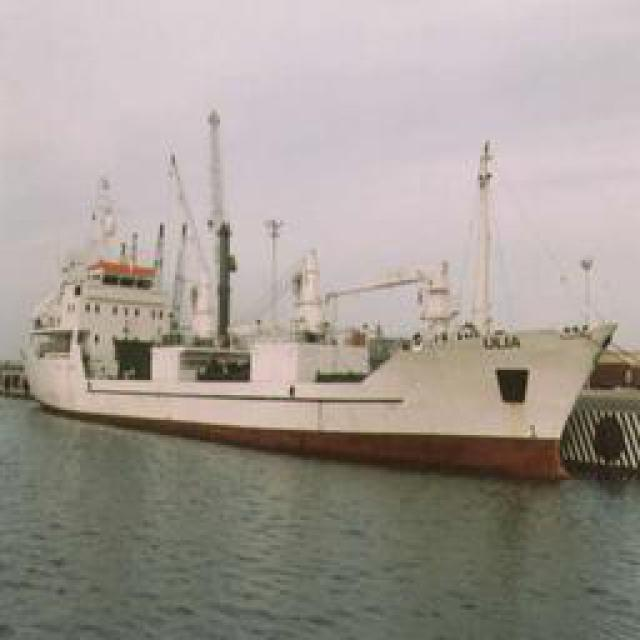Ship: (22, 115, 622, 475)
